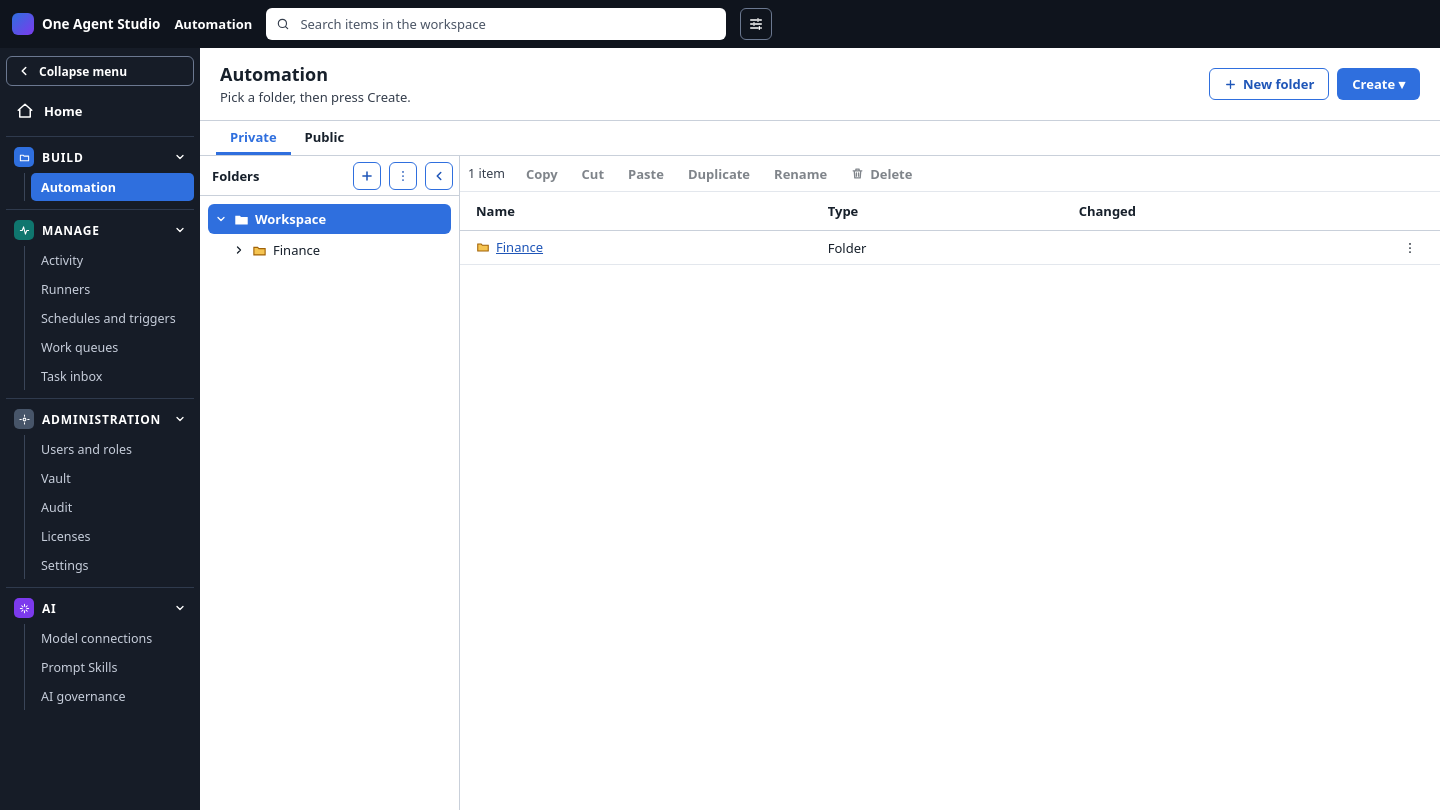
Scenario: new Studio › creates in AA's order: folder, then Create, then the type, then the name
The image size is (1440, 810).
Click the text "Finance" at (296, 250), box 273,241 -> 320,259
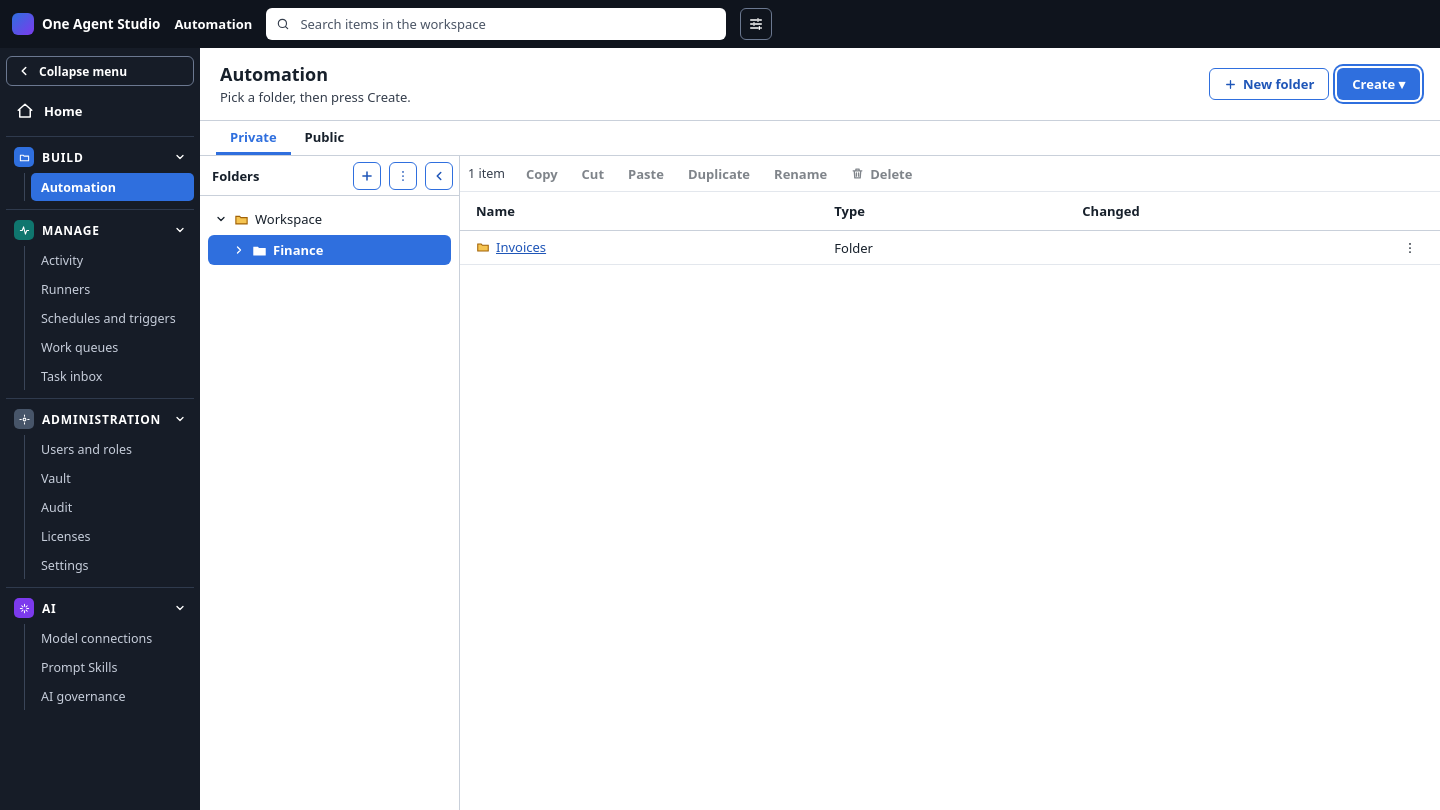
Expected: the heading "Automation" is shown, 220,62 -> 328,86
Note: the Create menu (opened from the keyboard here) offers the types, then the dialog asks only the name
Press ArrowDown in the button "Create ▾", box 1337,68 -> 1420,100
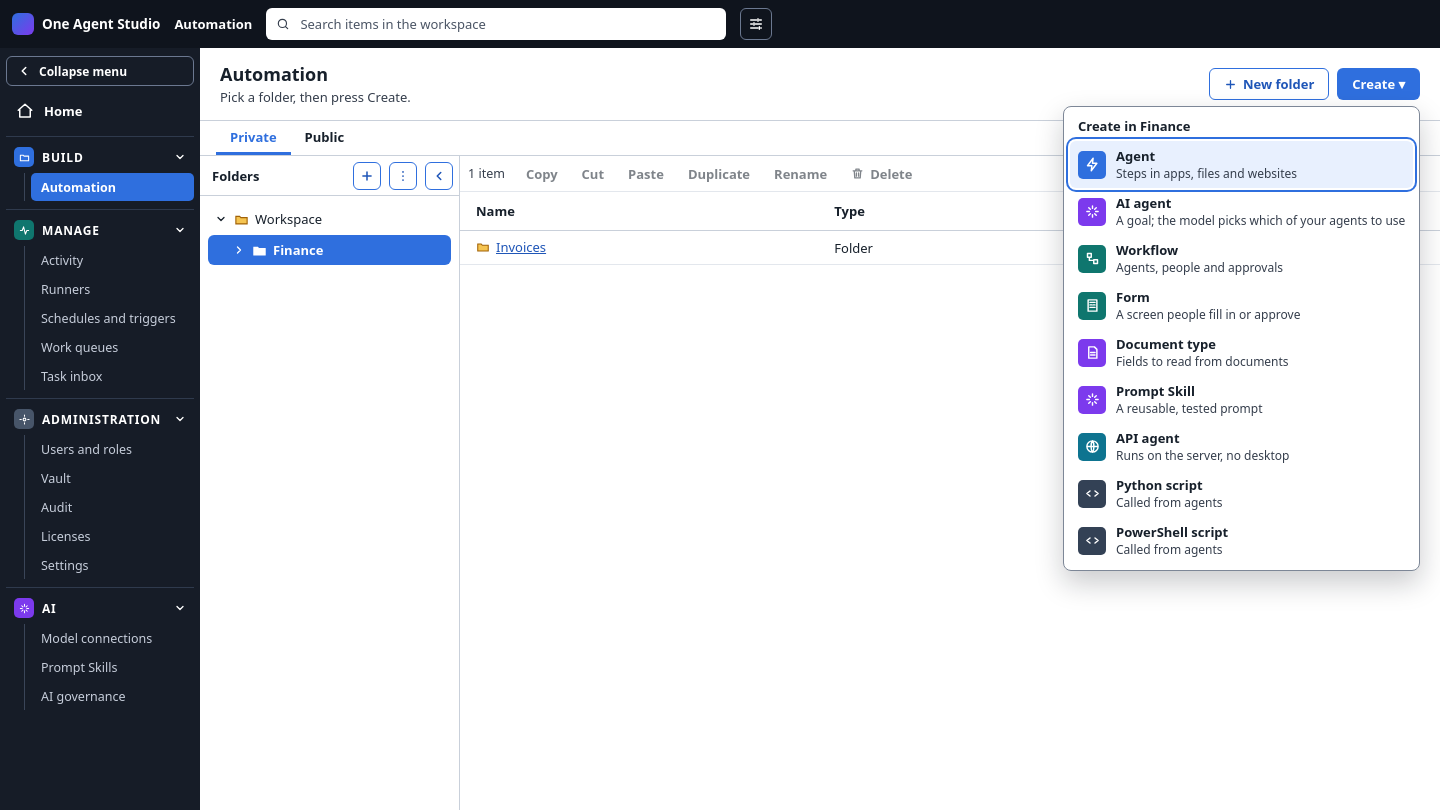
Click the menu item with aria-label "Agent, Steps in apps" at (1242, 164), box 1070,141 -> 1413,188
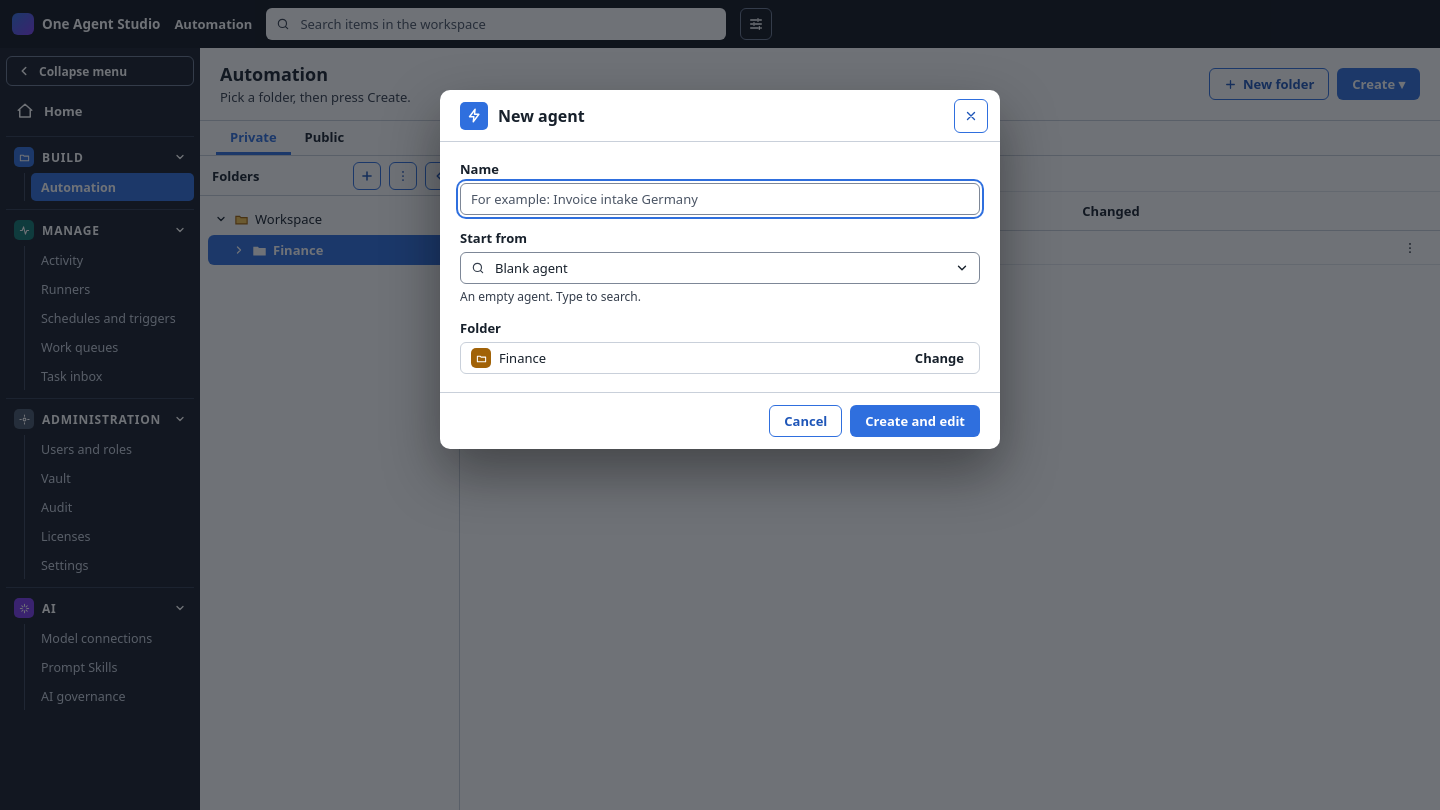
Result: the text "Finance" is shown at 499,349 -> 546,367
Type "Invoice intake Germany" into the field labelled "Name" at (720, 199), box 460,183 -> 980,215
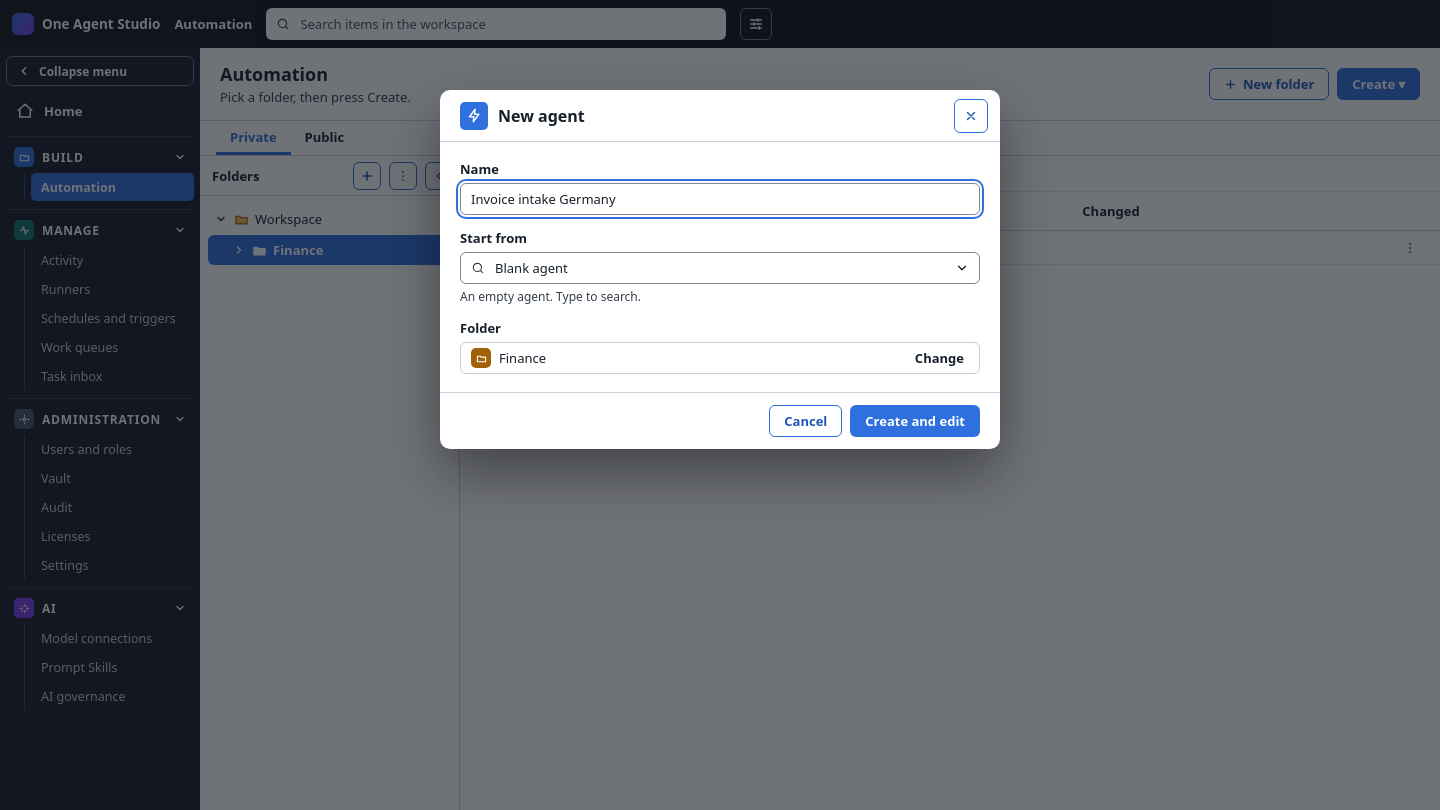
Click the button "Create and edit" at (915, 421), box 850,405 -> 980,437
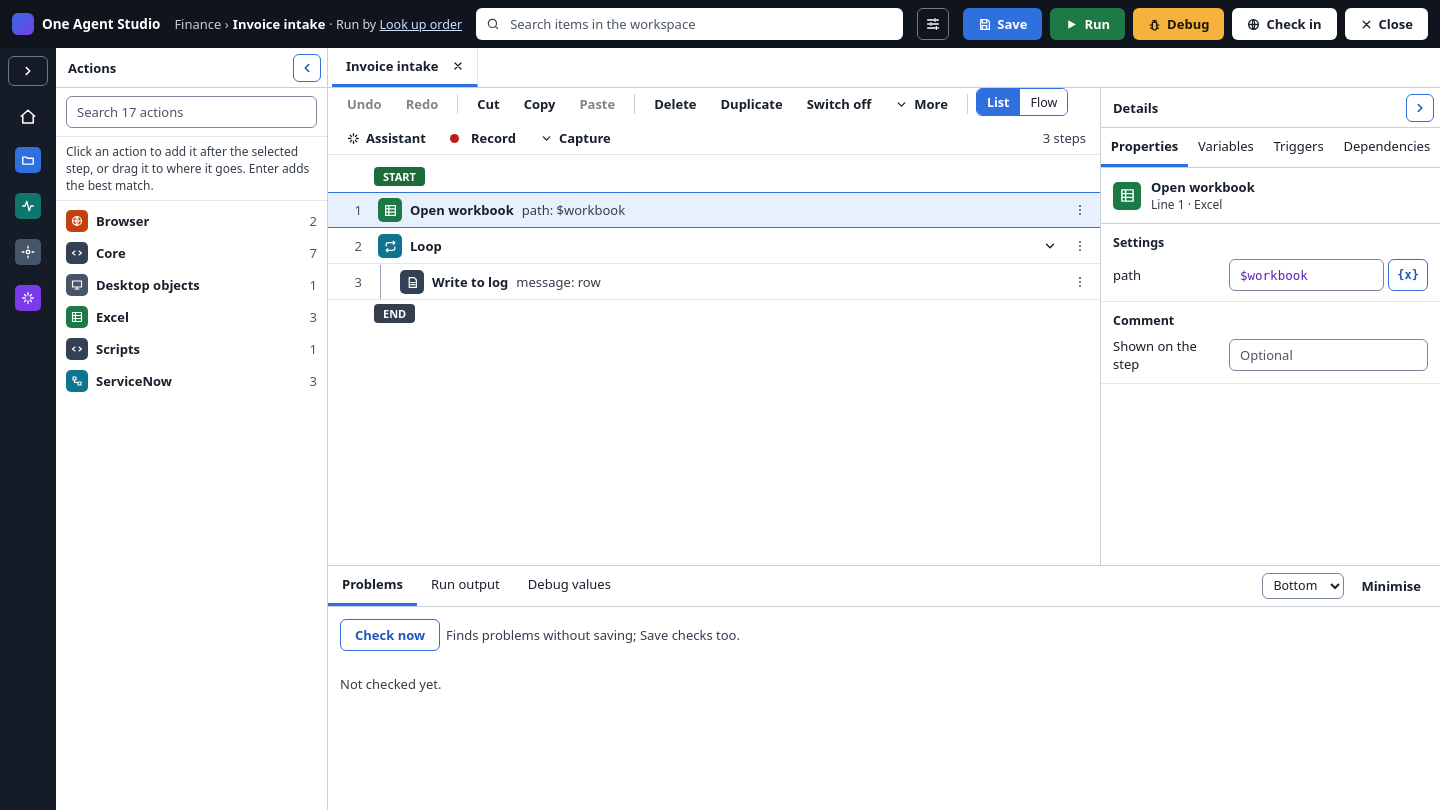
Result: the tab "Invoice intake" is shown at 332,48 -> 444,84
Result: the element "Actions" is shown at 56,48 -> 328,809
